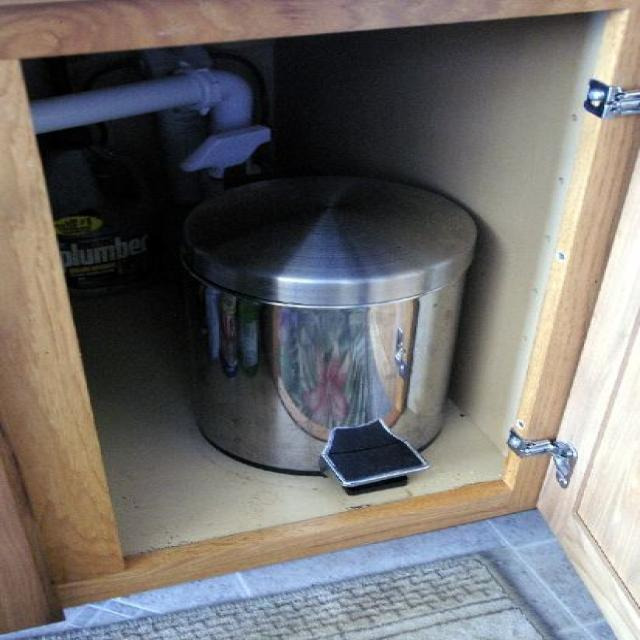metal: (179, 195, 489, 482)
